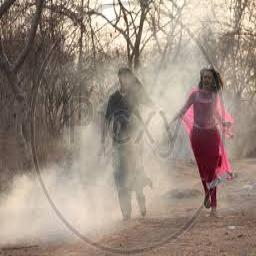Low smoke: (0, 43, 255, 253)
